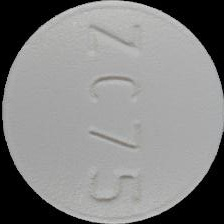64725-0114: (0, 0, 224, 224)
